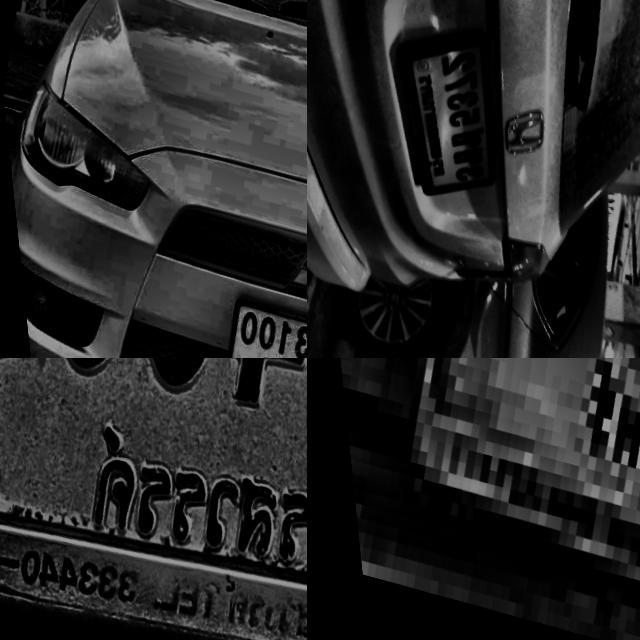license-plate: (321, 358, 640, 640), (0, 358, 307, 640), (393, 133, 506, 236), (199, 288, 307, 358)
